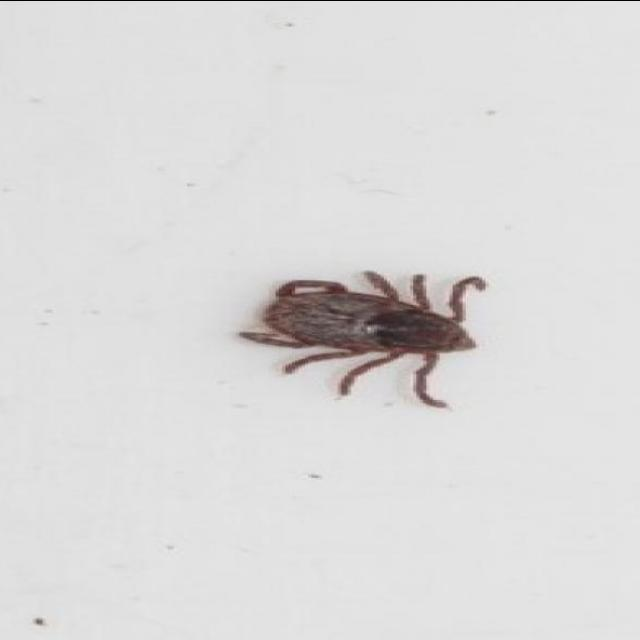Rhipicephalus Sanguineus-F: (236, 271, 485, 409)
